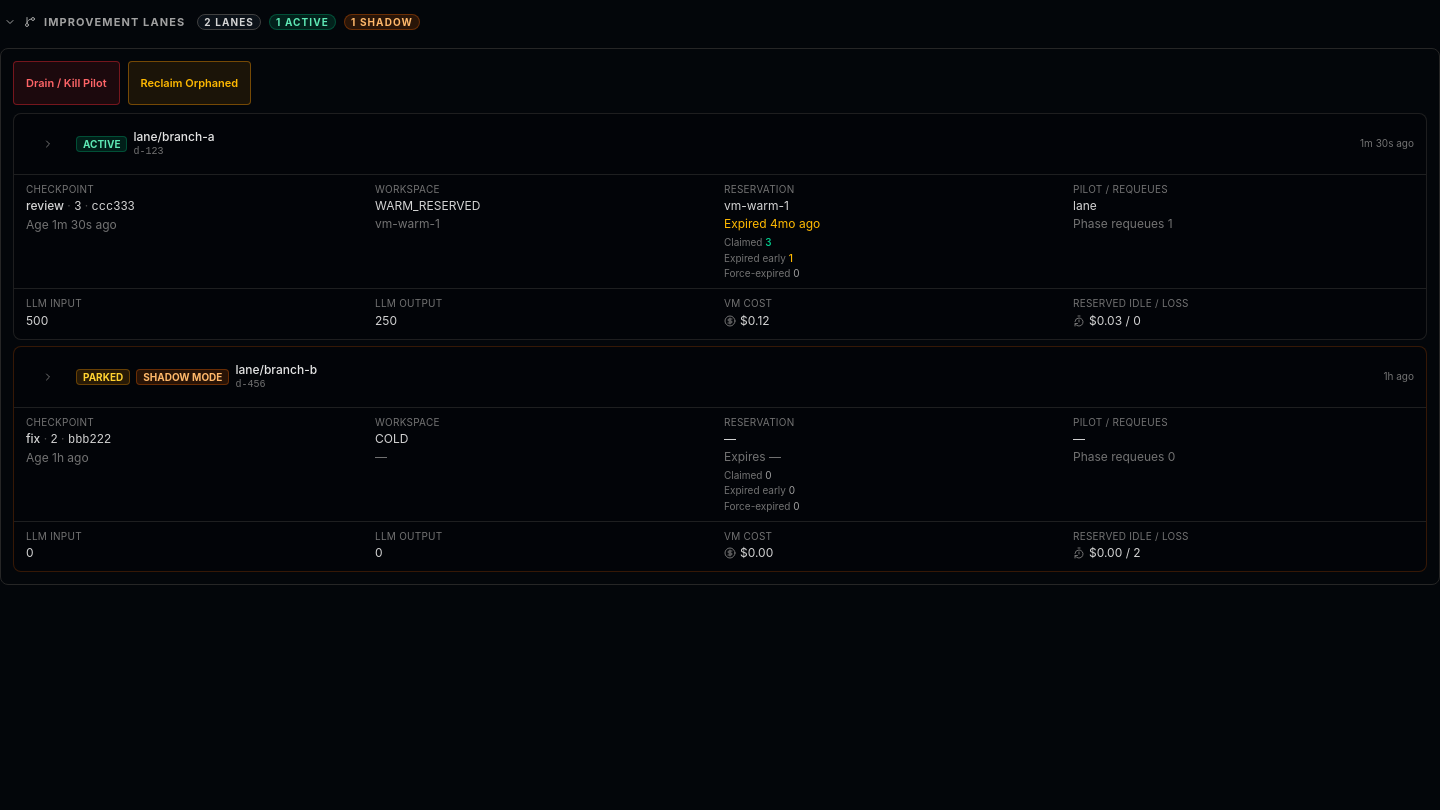
ImprovementLanesPanel › shows ConfirmDialog when Drain/Kill Pilot button is clicked
This screenshot has width=1440, height=810.
Click the button with test id "drain-lane-pilot-button".
click(66, 83)  # box [13,61,120,105]
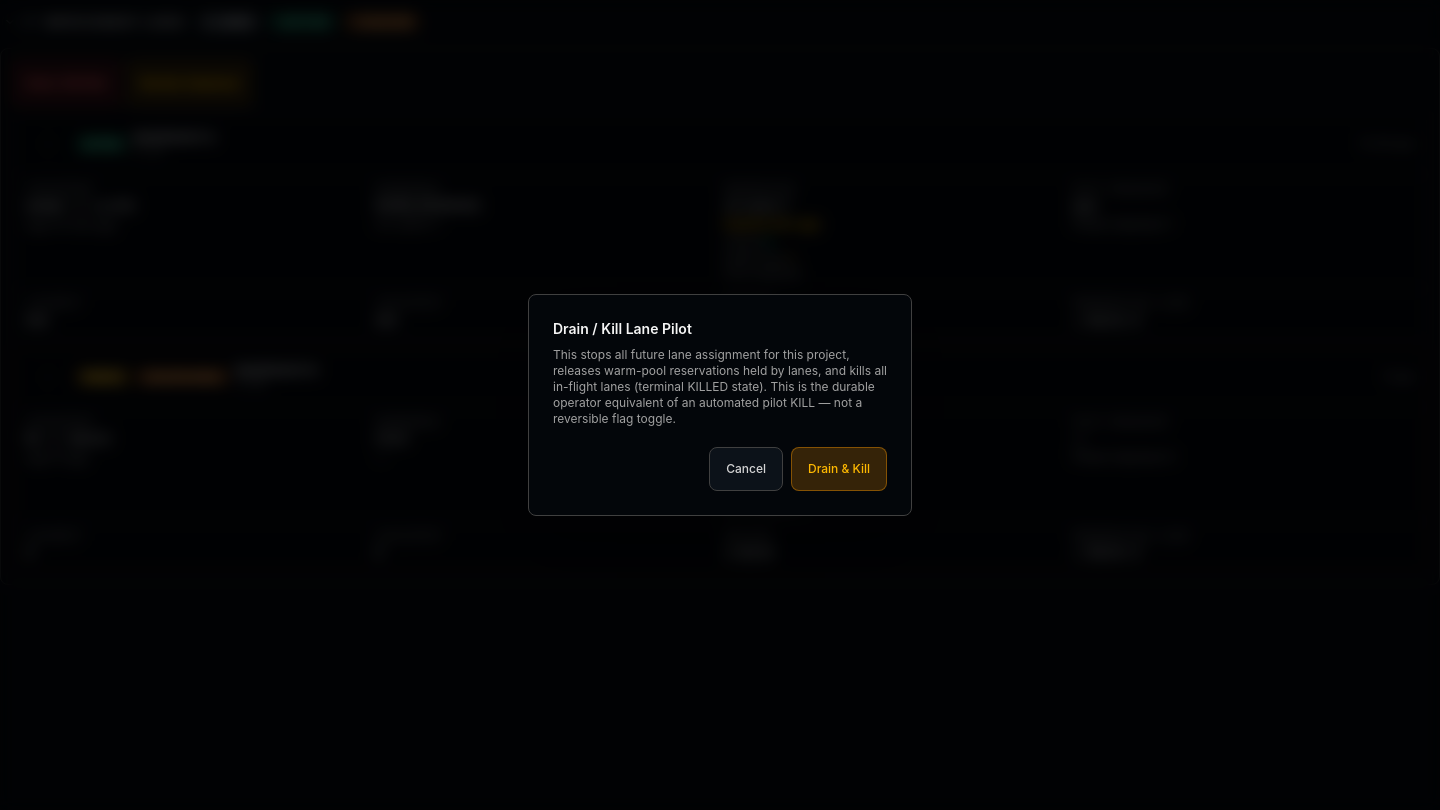
Check: the heading "Drain / Kill Lane Pilot" is shown, box [553,320,692,337]
Check: the text "stops all future lane assignment" is shown, box [553,347,887,426]
